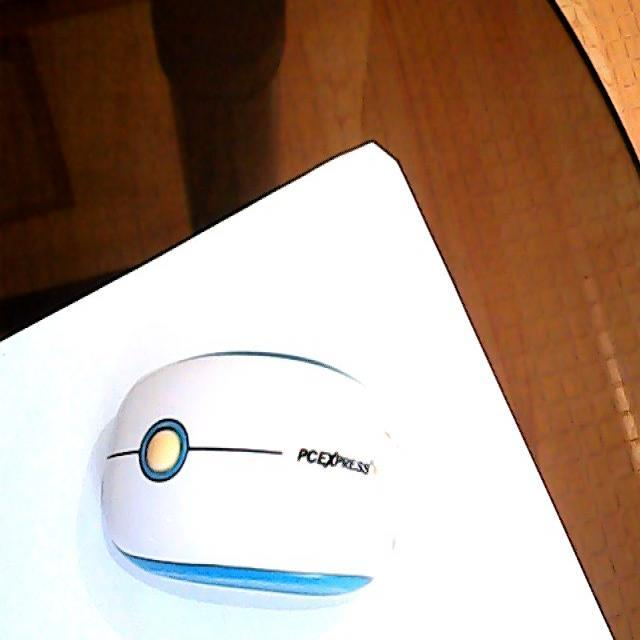mouse: (102, 346, 406, 598)
